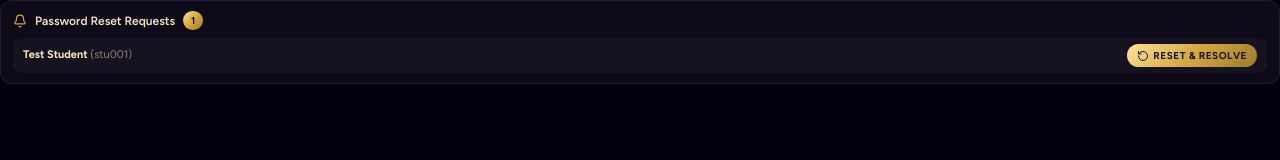
Test case: shows an inline error and does not crash if resetStudentPassword fails
Click the button with test id "password-reset-request-resolve-btn" at (1192, 56), box [1127,44,1257,67]
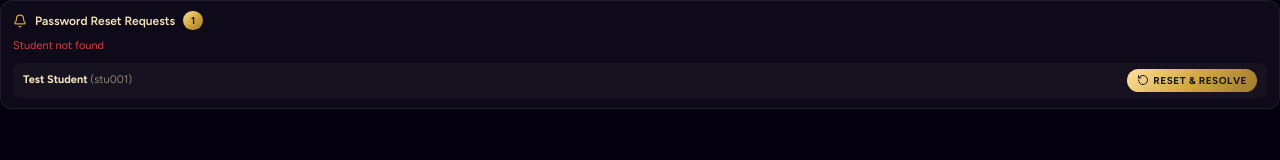
expect the text "Student not found" is shown: met, box [13,39,104,52]
